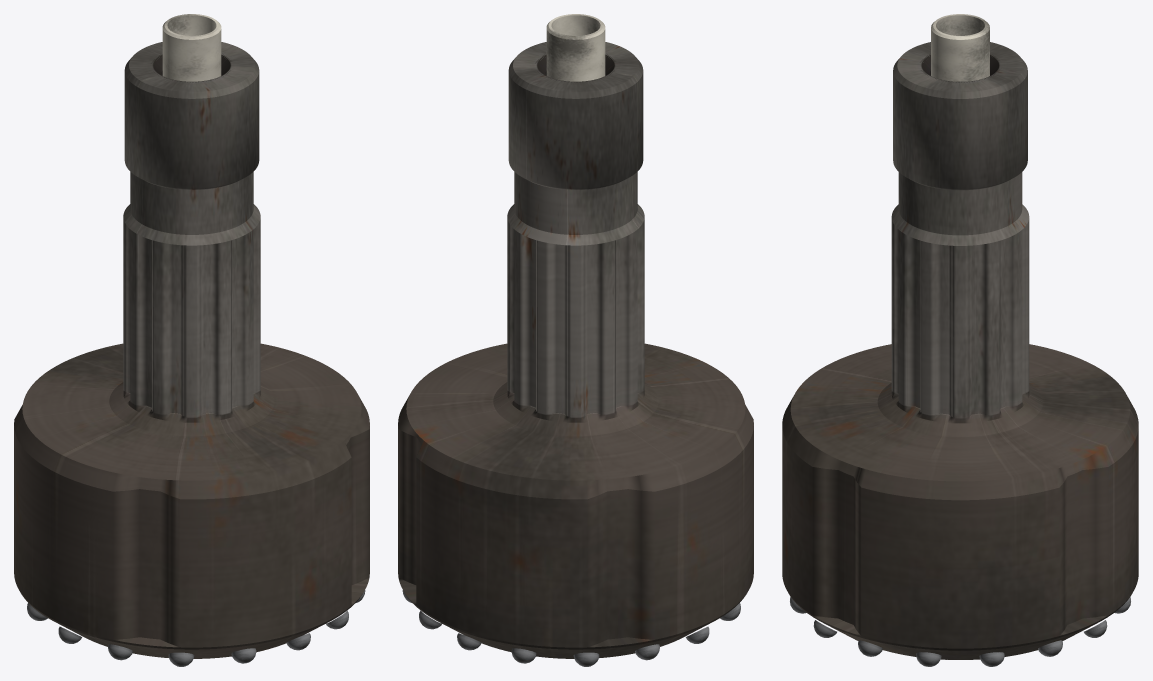
The model's file is SM_Bit_10po.glb.
3 renders of one model, left to right at view 1: azimuth 30°, elevation 25°; view 2: azimuth 150°, elevation 25°; view 3: azimuth 270°, elevation 25°, orthographic.
Parts seen in each view (by area): view 1: Bit_10po, Bit_10po_TubeDePied, Bit_10po_Boutons; view 2: Bit_10po, Bit_10po_TubeDePied, Bit_10po_Boutons; view 3: Bit_10po, Bit_10po_TubeDePied, Bit_10po_Boutons.
Part boxes in pixels (box(x1,y1,x2,y2)): Bit_10po: box(14, 42, 369, 658); Bit_10po_TubeDePied: box(162, 14, 221, 81); Bit_10po_Boutons: box(27, 590, 365, 666); Bit_10po: box(398, 42, 753, 658); Bit_10po_TubeDePied: box(546, 14, 605, 81); Bit_10po_Boutons: box(402, 590, 740, 666); Bit_10po: box(782, 42, 1138, 659); Bit_10po_TubeDePied: box(931, 14, 989, 81); Bit_10po_Boutons: box(790, 596, 1130, 666).
Bounding box in the file's own units: 0.254 × 0.4591 × 0.254.
3 materials, 3 textured.
